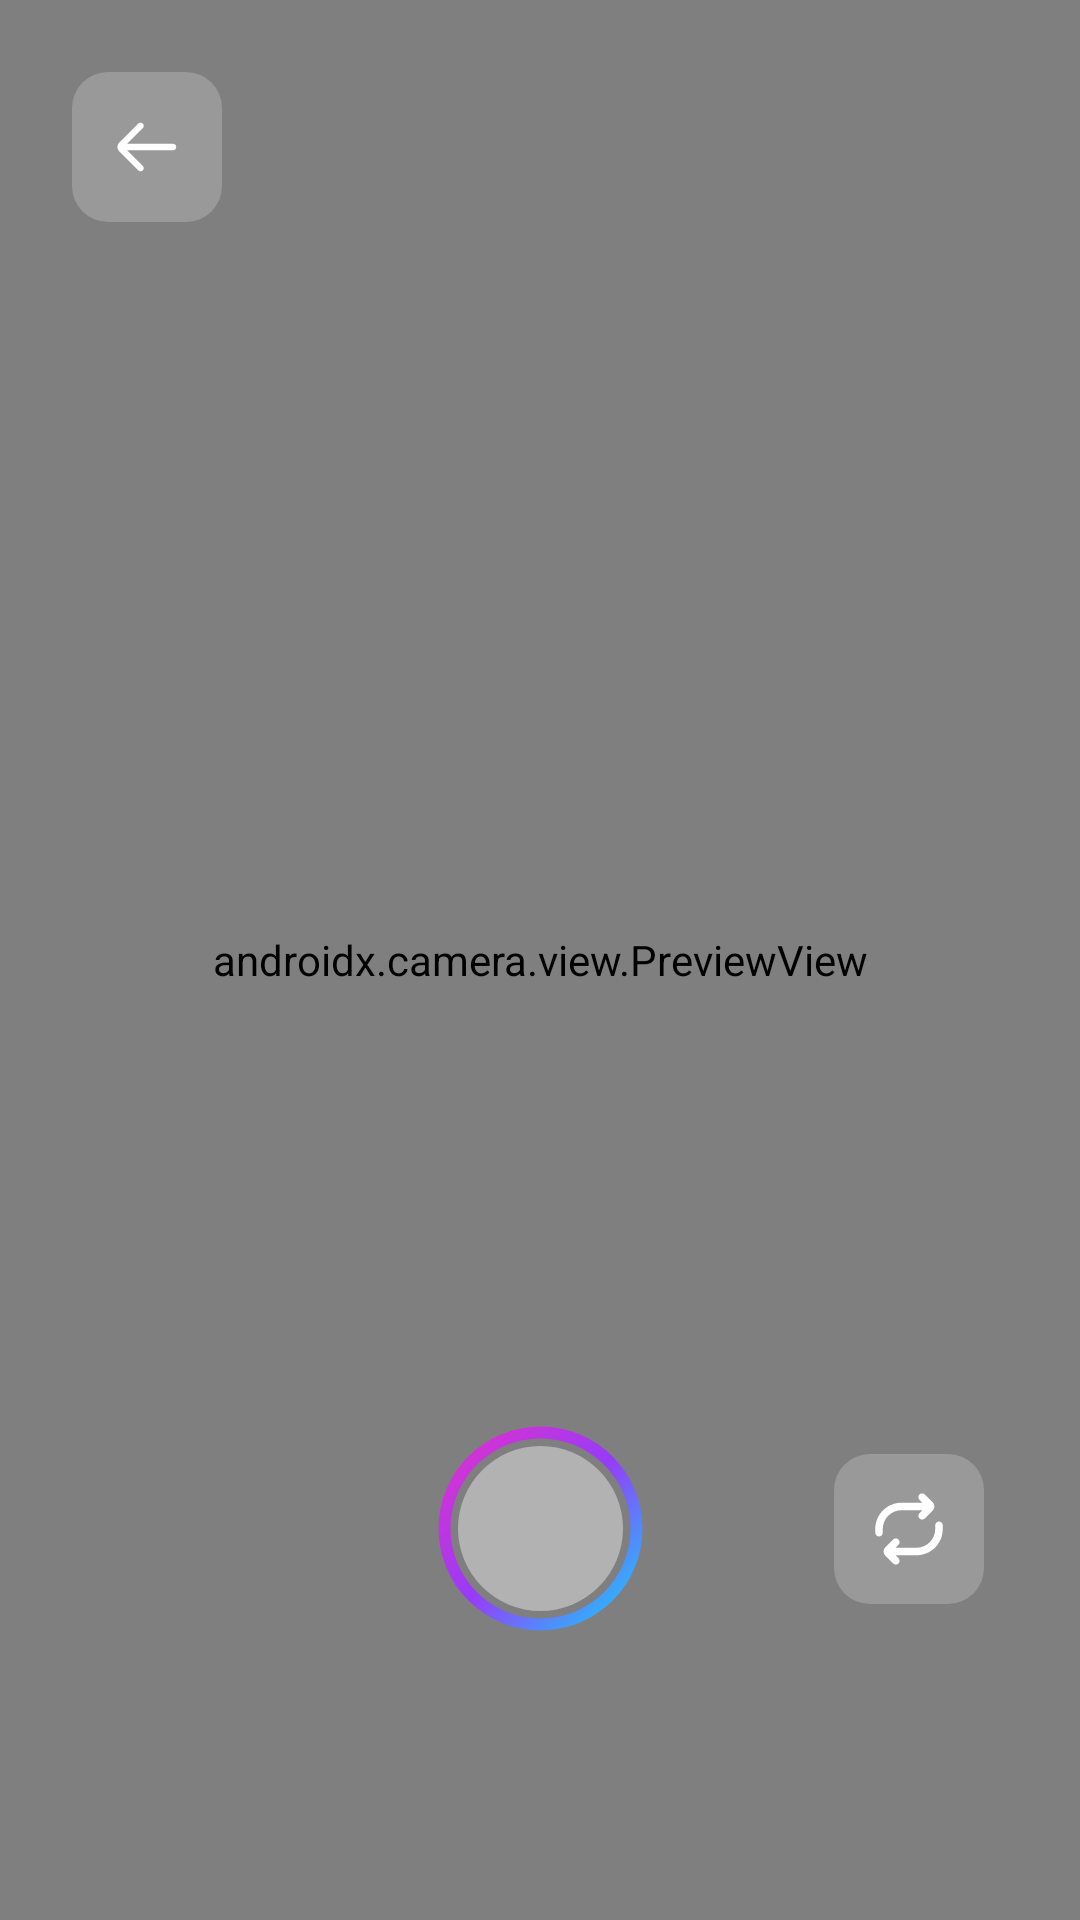

Named icons in this screenshot (1080px×1920px) and their bounding boxes, (x1, y1, x2, y2):
arrow back: (72, 72, 222, 222)
switch camera: (834, 1454, 984, 1604)
